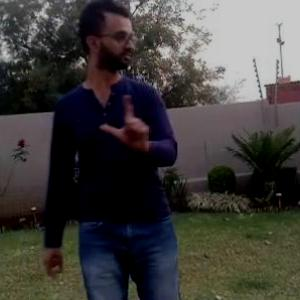land_hand: (100, 93, 154, 152)
